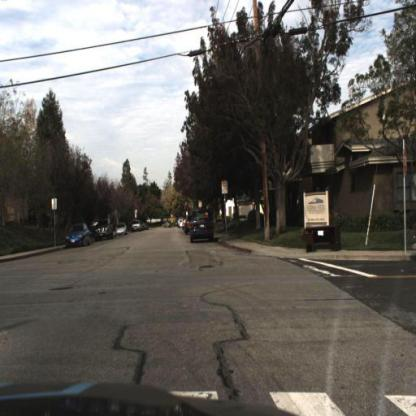car: (188, 207, 215, 247), (63, 222, 90, 250), (66, 220, 91, 248), (93, 218, 116, 245), (114, 222, 130, 239), (130, 218, 144, 236)
